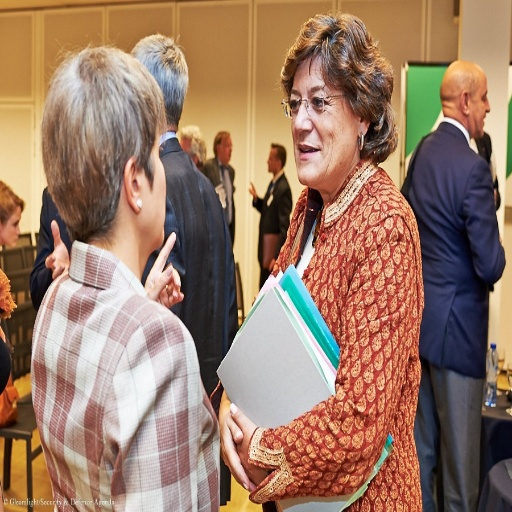hand: (216, 389, 250, 488), (230, 400, 267, 487), (141, 241, 175, 309), (44, 218, 71, 281), (246, 177, 258, 197), (497, 231, 505, 241)
